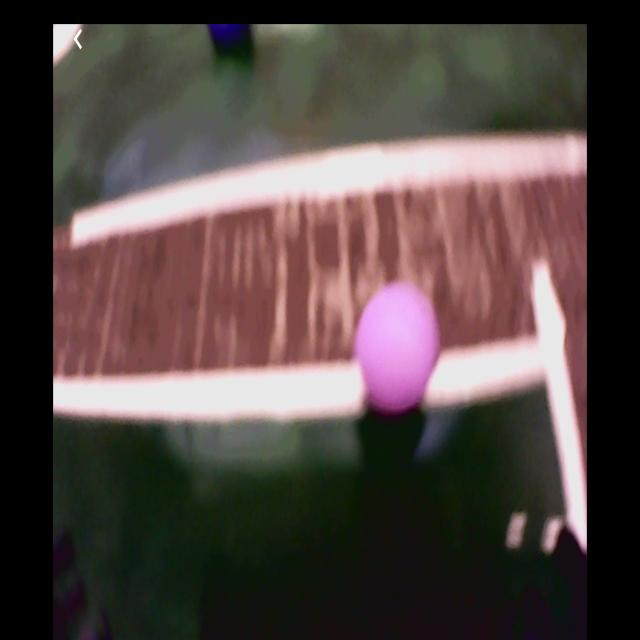ball: (356, 281, 443, 418), (207, 26, 251, 54)
